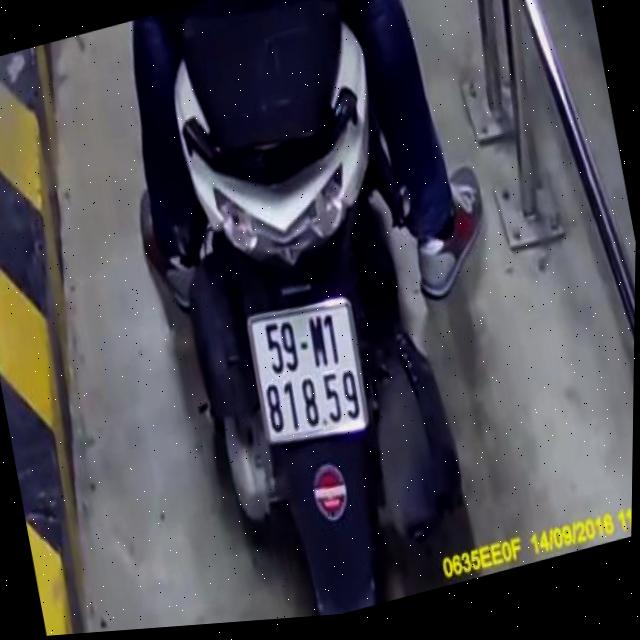motorcycle: (116, 0, 500, 631)
plate: (228, 276, 380, 460)
